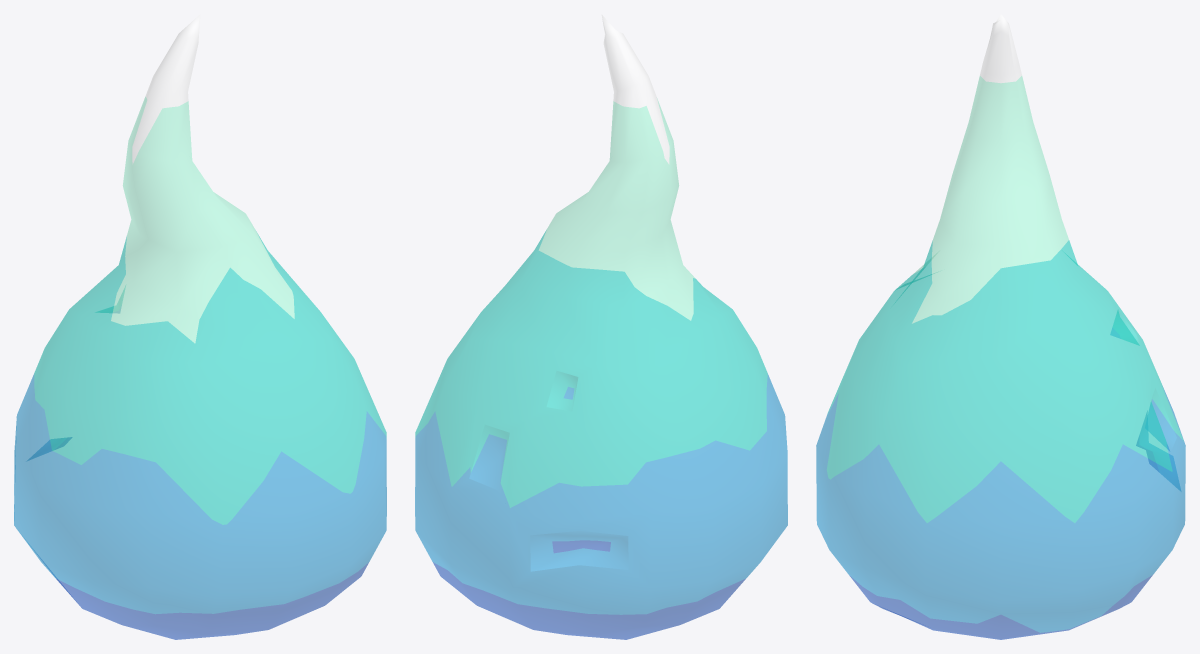
Rendered from wisp.glb.
3 views of the same model, side by side, from view 1: azimuth 30°, elevation 25°; view 2: azimuth 150°, elevation 25°; view 3: azimuth 270°, elevation 25° (orthographic).
Parts seen in each view (by area): view 1: Cube; view 2: Cube; view 3: Cube.
Part boxes in pixels (bbox=[...]): Cube: bbox=[14, 15, 386, 639]; Cube: bbox=[415, 15, 787, 639]; Cube: bbox=[816, 14, 1185, 639].
Bounding box in the file's own units: 1.87 × 3.39 × 1.87.
1 material, 1 textured.
